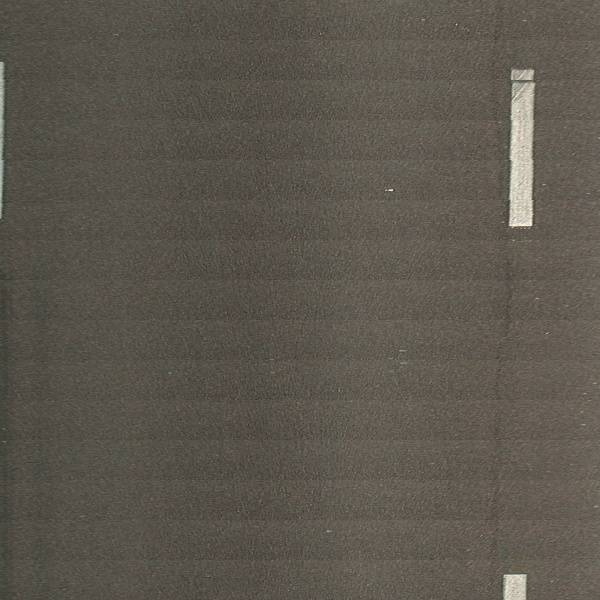road_damage: (492, 272, 516, 555)
